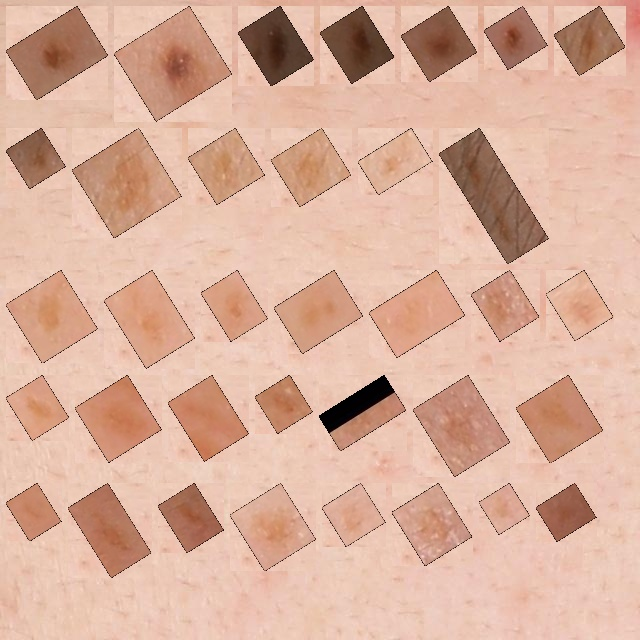melasma: (450, 139, 538, 253), (83, 139, 170, 227), (424, 386, 499, 465), (115, 281, 184, 357), (17, 281, 87, 352), (380, 281, 454, 346), (79, 494, 140, 566), (527, 386, 592, 452), (241, 494, 305, 560), (86, 386, 150, 451), (285, 281, 352, 342), (179, 386, 238, 450), (403, 494, 461, 555), (330, 386, 395, 440), (282, 139, 340, 195), (199, 139, 254, 193), (565, 17, 614, 64), (369, 139, 421, 183), (482, 281, 528, 330), (212, 281, 257, 330), (557, 281, 602, 329), (169, 494, 213, 541), (17, 386, 58, 429), (333, 494, 374, 535), (17, 139, 54, 177), (547, 494, 585, 530), (266, 386, 302, 422), (17, 494, 50, 530), (490, 494, 519, 523)
nevus: (125, 17, 221, 110), (17, 17, 97, 89), (249, 17, 303, 75), (412, 17, 466, 70), (331, 17, 383, 72), (495, 17, 536, 58)
